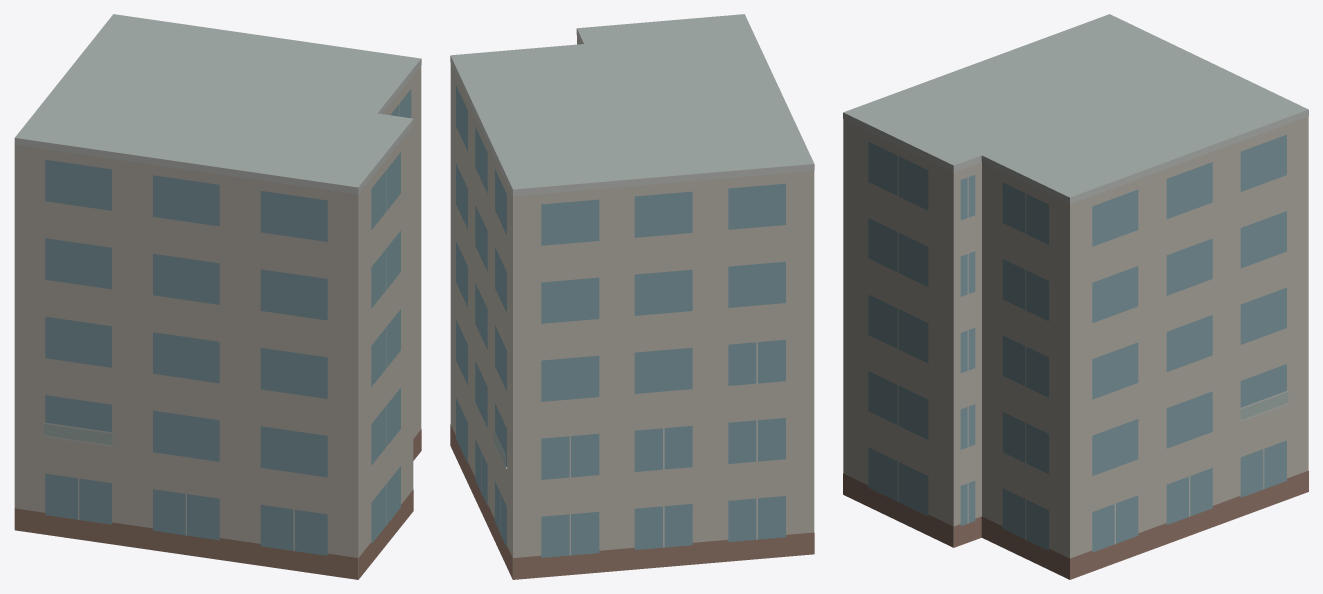
The model's file is survey-upis-32893263.glb.
3 views of the same model, side by side, from view 1: azimuth 30°, elevation 25°; view 2: azimuth 150°, elevation 25°; view 3: azimuth 270°, elevation 25° (orthographic). The views are drawn at different scales.
Parts seen in each view (by area): view 1: survey-upis-32893263.tmp; view 2: survey-upis-32893263.tmp; view 3: survey-upis-32893263.tmp.
Part boxes in pixels (x1=…): survey-upis-32893263.tmp: x1=14, y1=14, x2=421, y2=579; survey-upis-32893263.tmp: x1=450, y1=14, x2=814, y2=579; survey-upis-32893263.tmp: x1=843, y1=14, x2=1308, y2=579.
Size of the model in its own units: 14.33 by 13.9 by 15.35.
